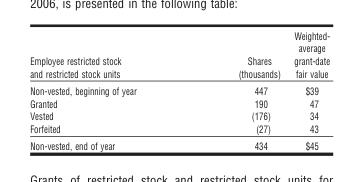table: (29, 28, 329, 151)
table column: (29, 28, 186, 151), (186, 28, 286, 151), (286, 28, 329, 151)
table column header: (29, 28, 329, 81)
table row: (29, 28, 329, 81), (29, 81, 329, 96), (29, 136, 329, 151), (29, 122, 329, 136), (29, 96, 329, 109), (29, 109, 329, 122)
